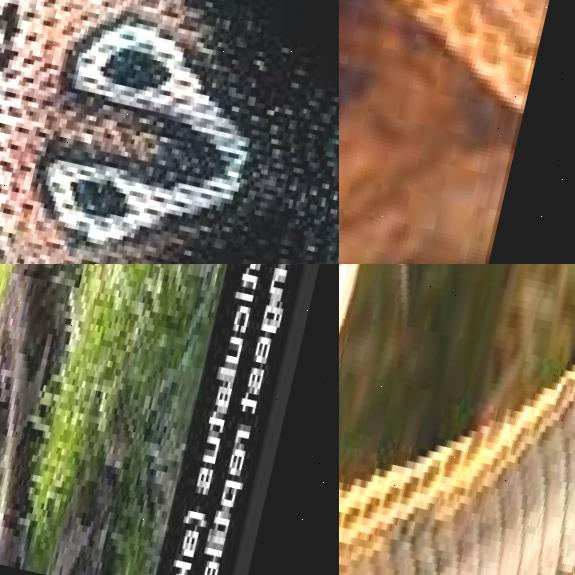snake: (0, 0, 339, 264), (339, 264, 575, 575), (0, 264, 221, 575), (339, 0, 575, 116)
